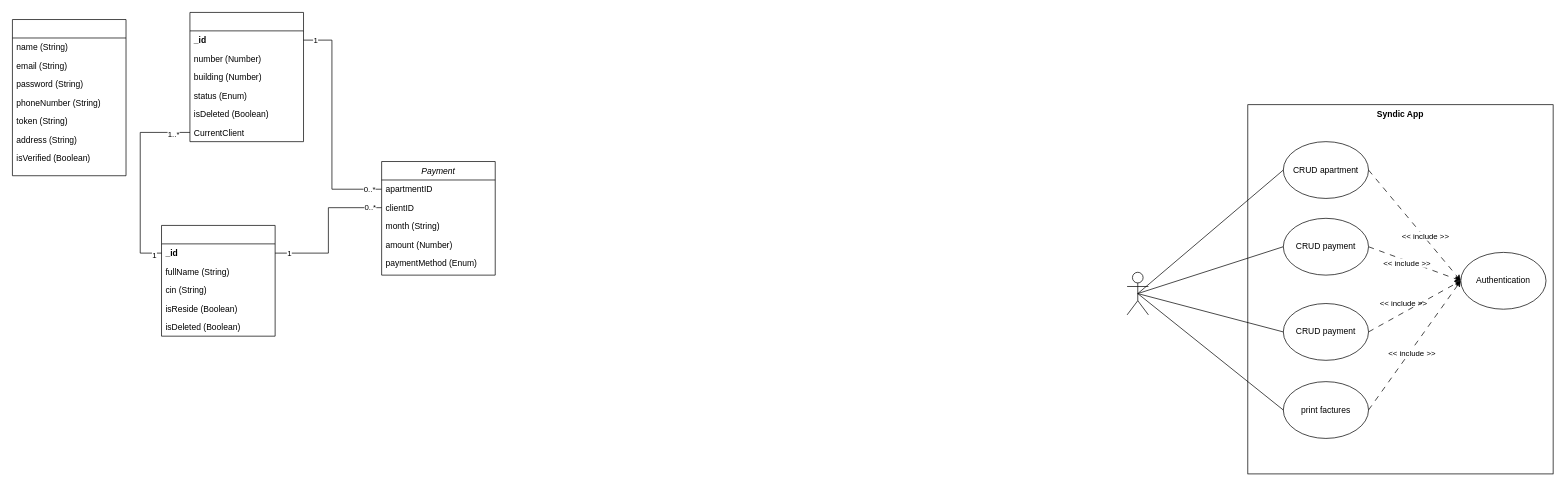
The diagram is 1566 pixels wide and 486 high, and some of its shapes have lost their labels. The box of each missing label's shape, as (x1, y1, x2, y2) in pixels:
Administrator (Syndic): (1126, 272, 1148, 315)
Apartment: (189, 12, 304, 142)
Client: (161, 225, 275, 336)
User: (12, 19, 126, 176)
